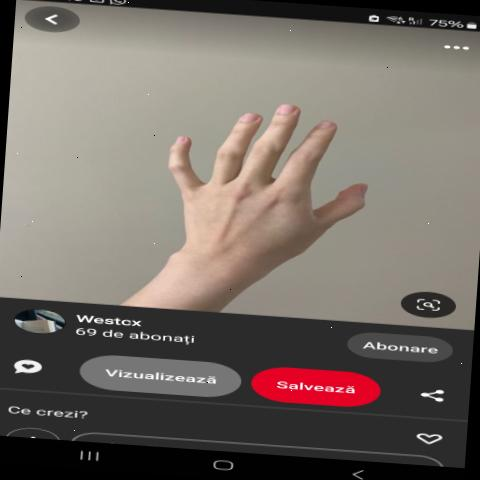hands: (102, 47, 409, 298)
